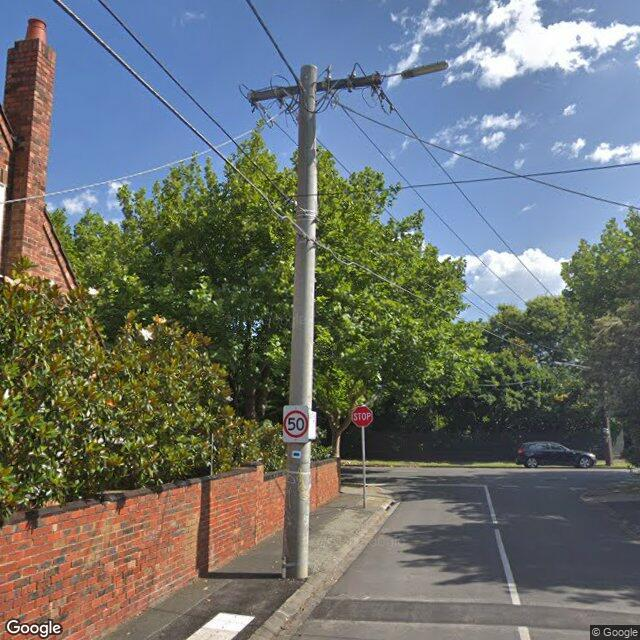concrete-pole: (280, 63, 320, 579)
crossarm: (247, 72, 384, 105)
streetlight: (381, 60, 449, 80)
timber-pole: (597, 369, 614, 470)
